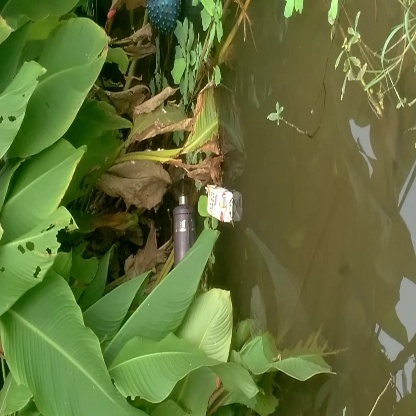bottle: (171, 189, 198, 263)
milk-box: (200, 178, 246, 229)
